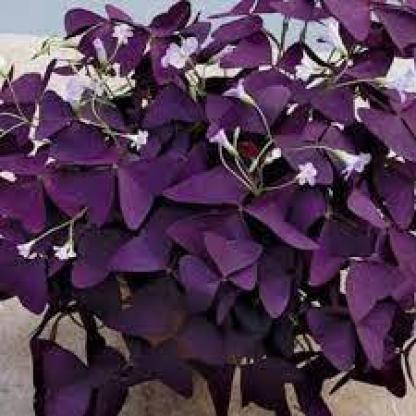Kupu-Kupu: (319, 258, 413, 374), (180, 169, 295, 260), (68, 116, 156, 230), (230, 29, 306, 112)
